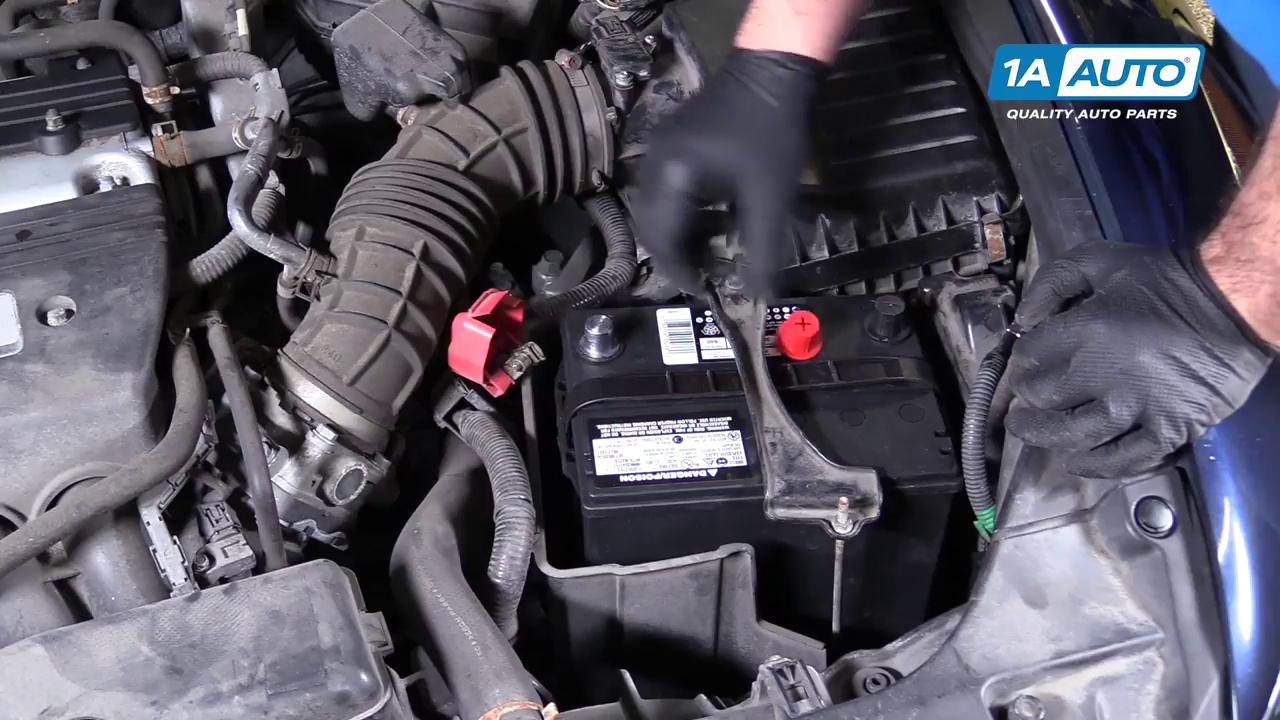battery: (551, 268, 945, 495)
pos_disconnected: (440, 266, 637, 397)
